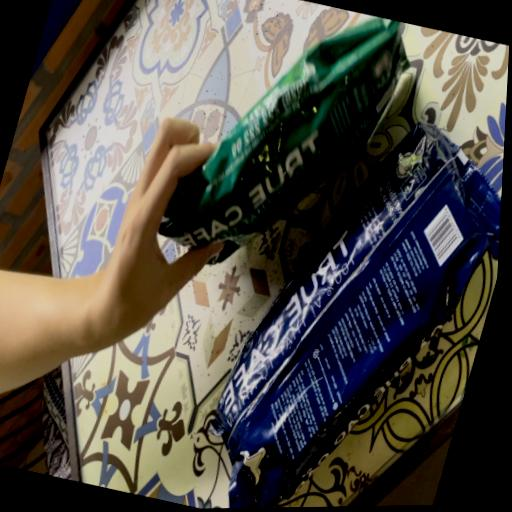cafe_hat: (211, 122, 501, 508)
cafe_xay: (159, 16, 409, 262)
